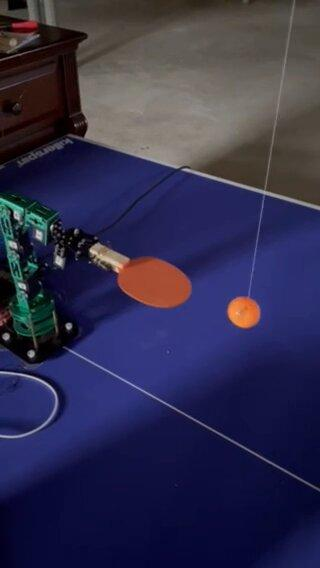oball: (228, 297, 260, 326)
